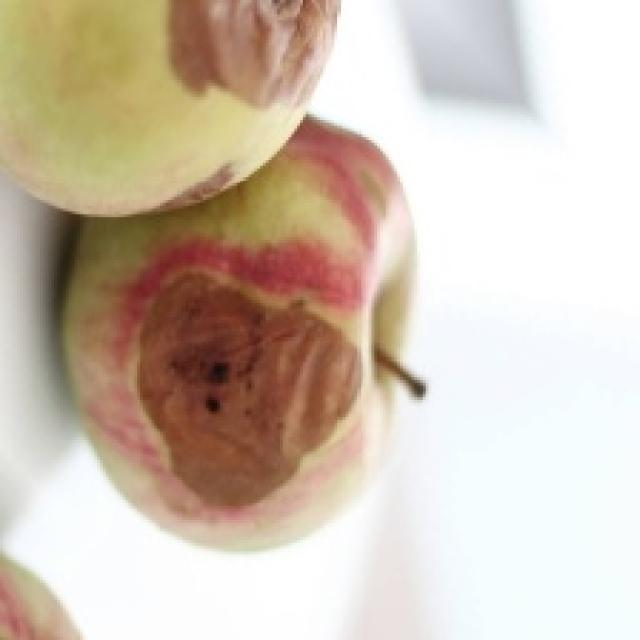rotten_apple: (70, 229, 404, 549), (0, 0, 327, 199)
